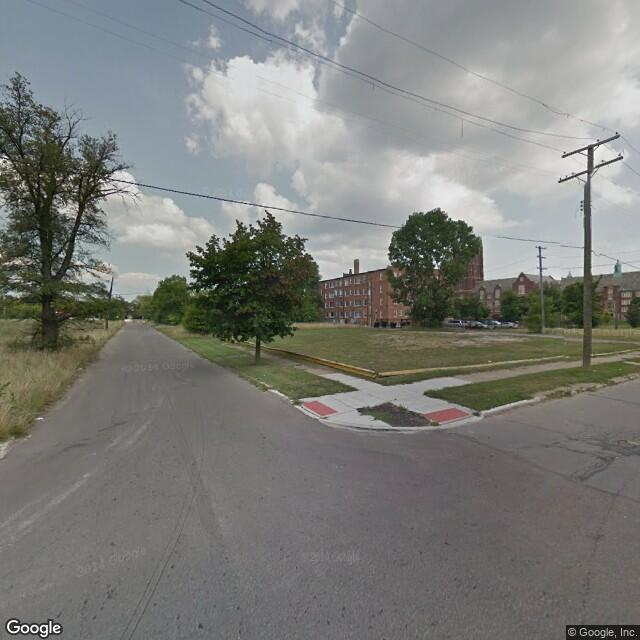litter: (34, 416, 46, 420), (486, 359, 492, 362), (75, 366, 82, 368)
